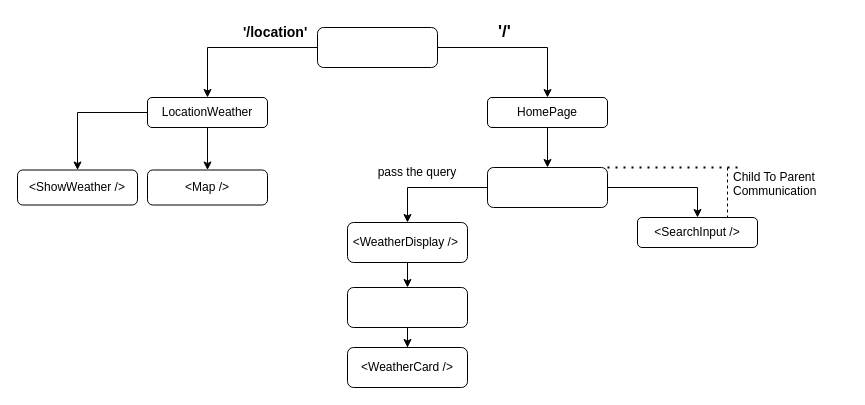
Image size: 865x405. Some labels were removed from this diagram. Here are the shapes that lost their labels. From the top down, the centre of each, then its label:
At [377,47]: "App".
At [547,187]: "<HomePage/>".
At [407,307]: "<WeatherDataList />".
